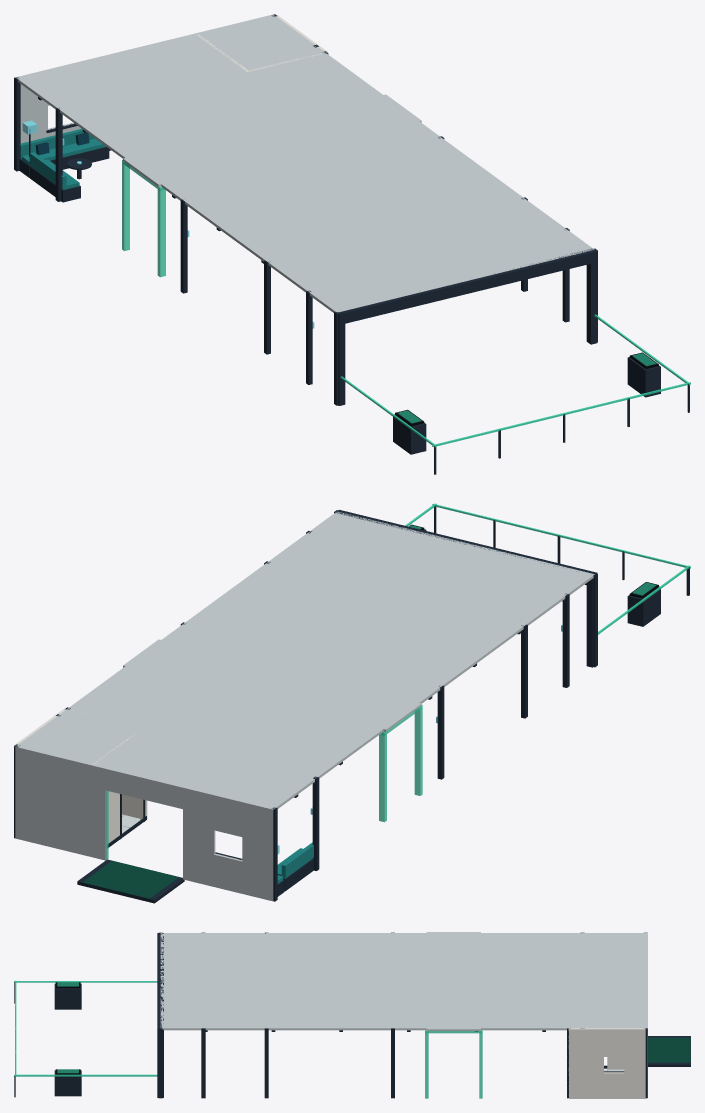
Rendered from skyfleet_bake3_05.glb.
3 views of the same model, one above another, from view 1: azimuth 30°, elevation 25°; view 2: azimuth 150°, elevation 25°; view 3: azimuth 270°, elevation 25° (orthographic). The views are drawn at different scales.
Visible parts, largest first — view 1: baked; view 2: baked; view 3: baked.
Part boxes in pixels (left/top/right/bottom): baked: left=14, top=14, right=690, bottom=474; baked: left=14, top=503, right=690, bottom=903; baked: left=14, top=932, right=690, bottom=1098.
Size of the model in its own units: 10.2 by 3.52 by 30.01.
